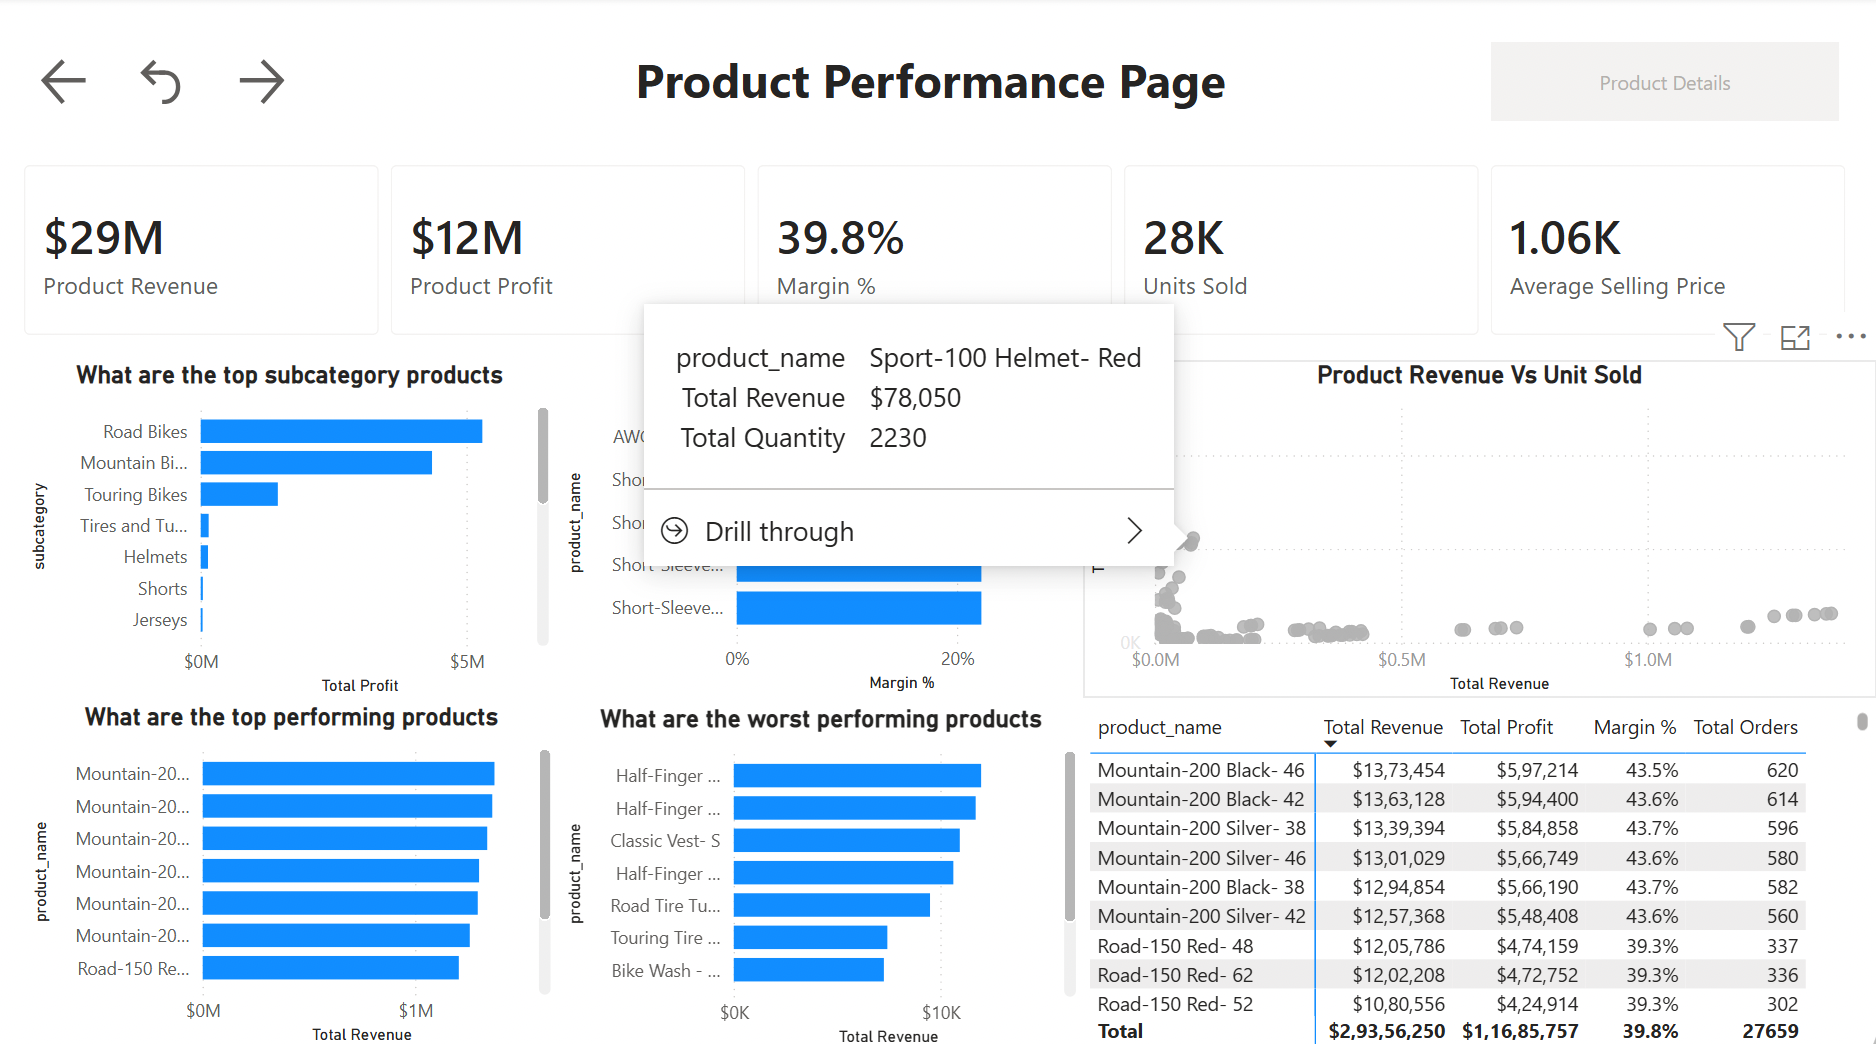

The dashboard page shown, as its layout file describes it:
{"tool":"powerbi","page":{"name":"Product Performance ","canvas":[1280,720],"ordinal":3},"visuals":[{"type":"textbox","box":[183.7,30.3,910.8,58.7],"z":0},{"type":"actionButton","title":"Home Page","box":[90.7,38.6,50.2,40.5],"z":0,"group":"g1"},{"type":"actionButton","title":"Next Page","box":[158.3,38.6,57.9,40.5],"z":1000,"group":"g1"},{"type":"cardVisual","fields":{"Data":["_measures.total_revenue","_measures.total_profit","_measures.margin_percentage","_measures.total_orders","_measures.average_order_value"]},"box":[0,97.8,1280,150.3],"z":1000},{"type":"actionButton","title":"Previous Page","box":[25.1,38.6,65.6,40.5],"z":2000,"group":"g1"},{"type":"barChart","title":"What are the top subcategory products","fields":{"Y":["_measures.Total Profit"],"Category":["gold dim_products.subcategory"]},"box":[17,248,363.6,232.9],"z":2000},{"type":"barChart","title":"Top Products with Margin","fields":{"Y":["_measures.margin_percentage"],"Category":["gold dim_products.product_name"]},"box":[381.4,245.6,363.4,233.6],"z":3000},{"type":"scatterChart","title":"Product Revenue Vs Unit Sold","fields":{"X":["_measures.total_revenue"],"Y":["_measures.Total Quantity"],"Category":["gold dim_products.product_name"]},"box":[738.8,247.6,541.2,231.6],"z":4000},{"type":"barChart","title":"What are the top performing products","fields":{"Y":["_measures.total_revenue"],"Category":["gold dim_products.product_name"]},"box":[18,481.2,363.4,237.6],"z":5000},{"type":"pivotTable","fields":{"Rows":["gold dim_products.product_name"],"Values":["_measures.total_revenue","_measures.total_profit","_measures.margin_percentage","_measures.total_orders"]},"box":[738.8,483.2,541.2,237.6],"z":6000},{"type":"actionButton","title":"Customer Details ","box":[1017.4,30.9,237.5,54.1],"z":7000},{"type":"group","id":"g1","title":"Page Navigators","box":[25.1,38.6,191.1,40.5],"z":8000},{"type":"barChart","title":"What are the worst performing products","fields":{"Y":["_measures.total_revenue"],"Category":["gold dim_products.product_name"]},"box":[381.4,483.2,357.4,237.6],"z":9000}]}

Visuals, with their boxes in screenshot pixels (x1, y1, x2, y2), scaled from the page's 1280x720 canvas onto the 1876x1044 screenshot:
textbox: left=269, top=44, right=1604, bottom=129
"Home Page" actionButton: left=133, top=56, right=207, bottom=115
"Next Page" actionButton: left=232, top=56, right=317, bottom=115
cardVisual - _measures.total_revenue x _measures.total_profit: left=0, top=142, right=1875, bottom=360
"Previous Page" actionButton: left=37, top=56, right=133, bottom=115
"What are the top subcategory products" barChart: left=25, top=360, right=558, bottom=697
"Top Products with Margin" barChart: left=559, top=356, right=1092, bottom=695
"Product Revenue Vs Unit Sold" scatterChart: left=1083, top=359, right=1875, bottom=695
"What are the top performing products" barChart: left=26, top=698, right=559, bottom=1042
pivotTable - gold dim_products.product_name x _measures.total_revenue: left=1083, top=701, right=1875, bottom=1043
"Customer Details " actionButton: left=1491, top=45, right=1839, bottom=123
"Page Navigators" group: left=37, top=56, right=317, bottom=115
"What are the worst performing products" barChart: left=559, top=701, right=1083, bottom=1043
